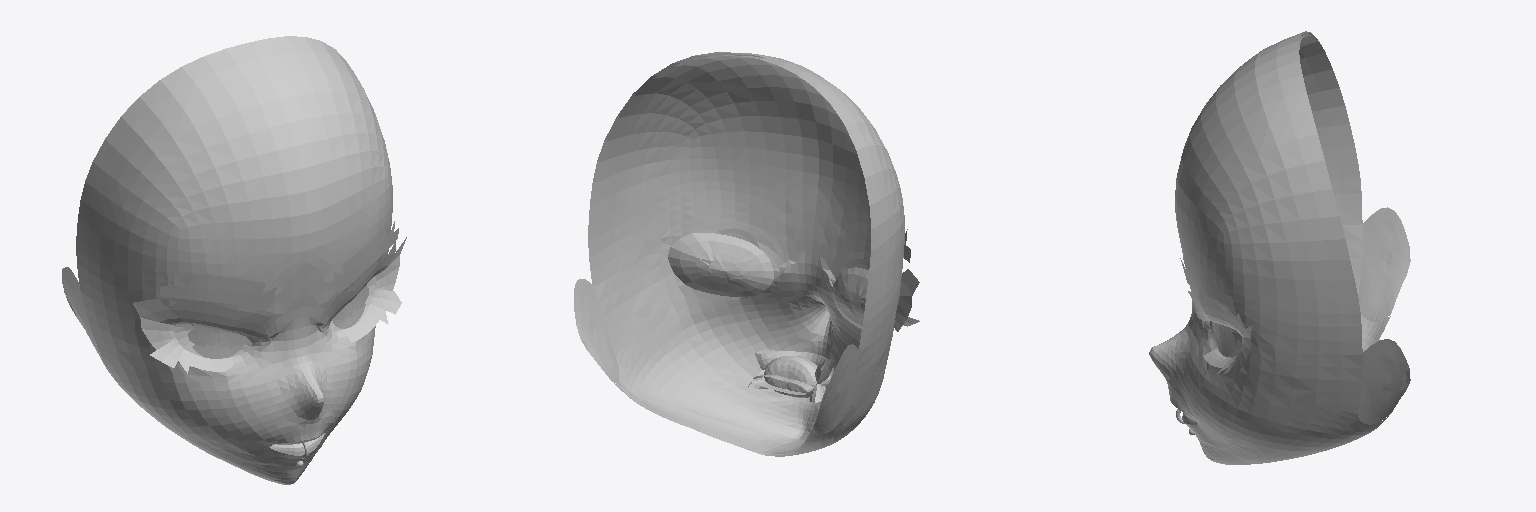
Rendered from Nasuni0.3.obj.
3 renders of one model, left to right at view 1: azimuth 30°, elevation 25°; view 2: azimuth 150°, elevation 25°; view 3: azimuth 270°, elevation 25°, orthographic.
Parts seen in each view (by area): view 1: Face; view 2: Face; view 3: Face.
Part boxes in pixels (bbox=[...]): Face: bbox=[62, 36, 406, 484]; Face: bbox=[574, 52, 919, 456]; Face: bbox=[1149, 31, 1410, 464].
Bounding box in the file's own units: 0.1687 × 0.2361 × 0.1354.